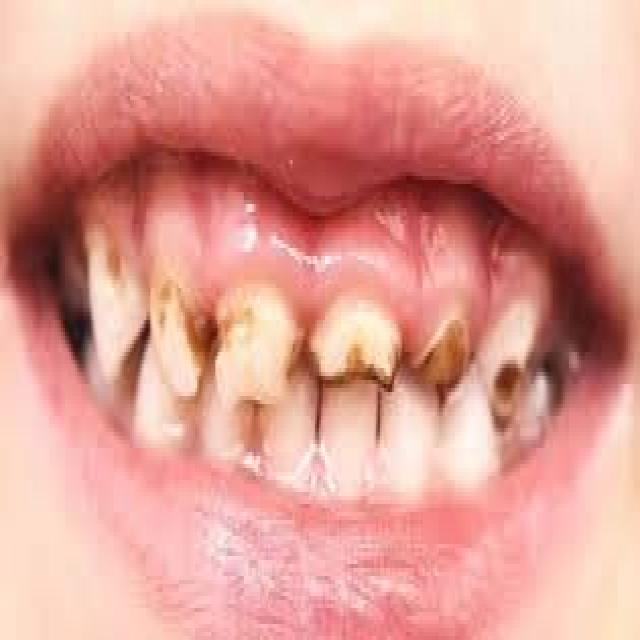tooth: (315, 288, 394, 372), (321, 376, 386, 476), (222, 288, 284, 388), (256, 380, 317, 468), (388, 372, 433, 488), (199, 380, 246, 480), (447, 384, 492, 480), (144, 280, 195, 364), (144, 360, 189, 452), (516, 336, 553, 444), (89, 256, 132, 340), (39, 240, 83, 300), (425, 308, 461, 380), (490, 292, 514, 400)
